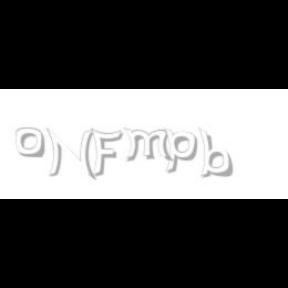F: (90, 128, 122, 178)
N: (46, 128, 94, 180)
b: (198, 128, 236, 178)
m: (122, 128, 174, 162)
o: (16, 128, 44, 158)
p: (164, 128, 201, 174)
